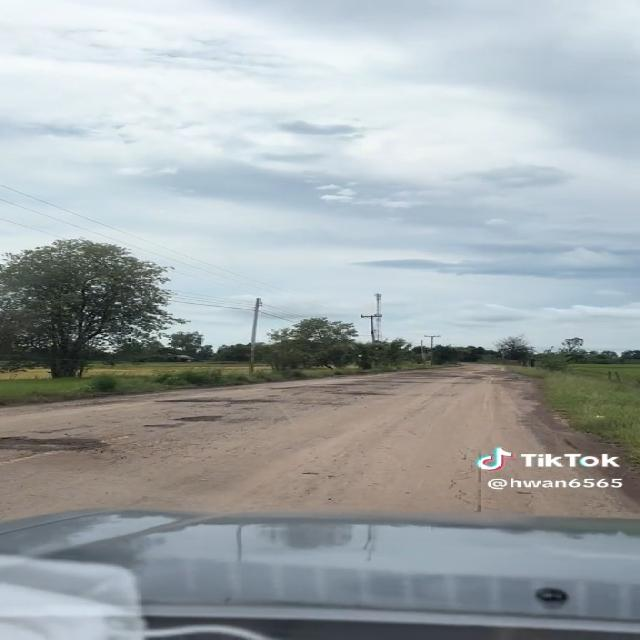Poth-hole: (402, 457, 481, 508)
